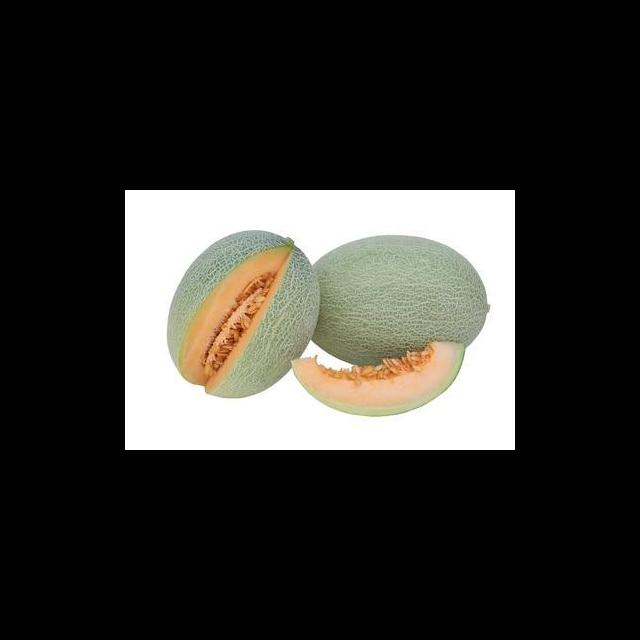Hami Melon: (166, 228, 320, 399), (315, 232, 487, 365), (291, 343, 464, 418)
